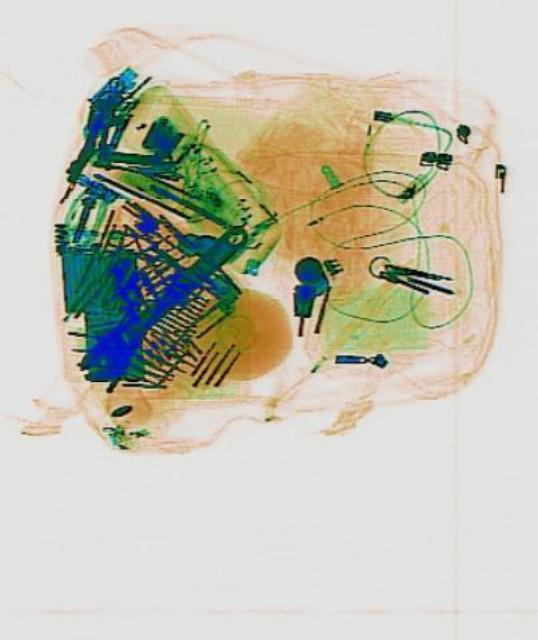Wrench: (67, 209, 256, 395)
